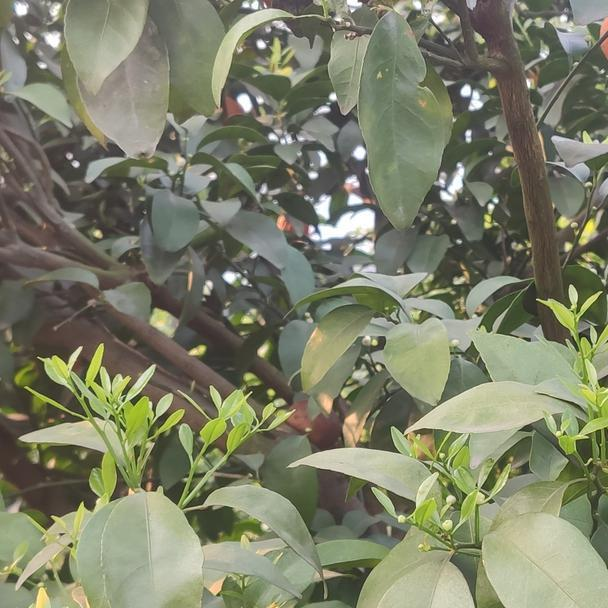shoot: (38, 345, 155, 475), (185, 388, 292, 489), (547, 293, 608, 402)
